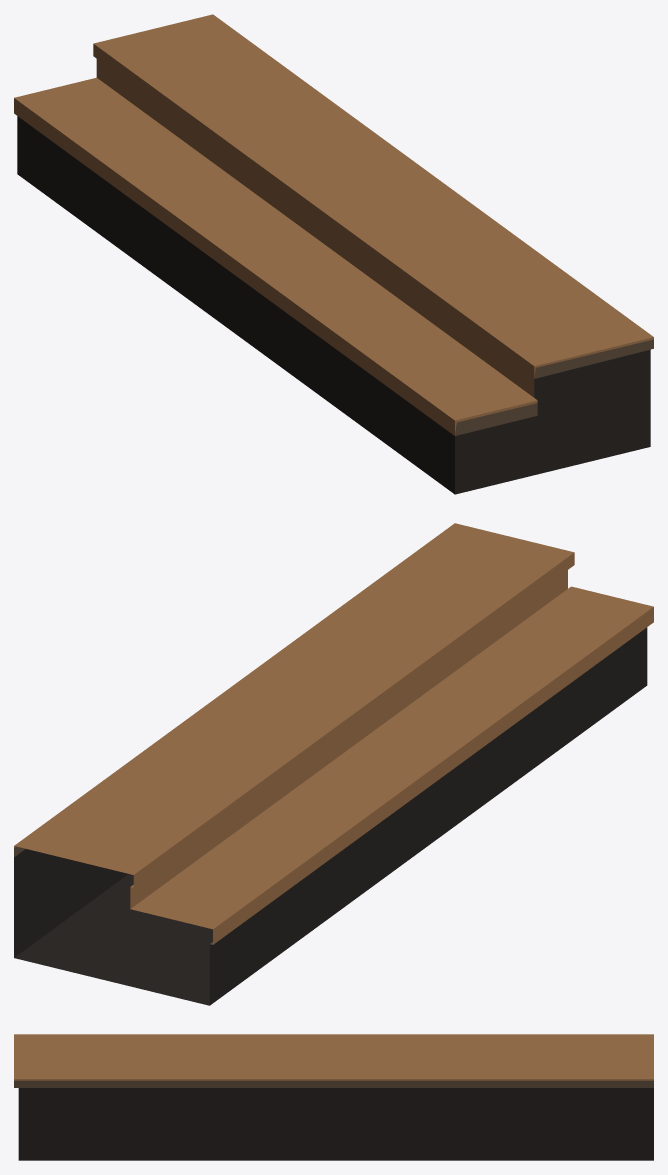
File: stairs_small.FBX
The picture shows the model from 3 angles, top to bottom: view 1: azimuth 30°, elevation 25°; view 2: azimuth 150°, elevation 25°; view 3: azimuth 270°, elevation 25°; orthographic projection. The views are drawn at different scales.
Visible parts, largest first — view 1: stairs_small; view 2: stairs_small; view 3: stairs_small.
Boxes of the visible parts, bbox=[...] form: stairs_small: bbox=[14, 14, 653, 494]; stairs_small: bbox=[14, 523, 653, 1005]; stairs_small: bbox=[14, 1034, 653, 1160].
Bounding box in the file's own units: 95.64 × 51.49 × 367.
Materials: 1 (1 with a texture image).
